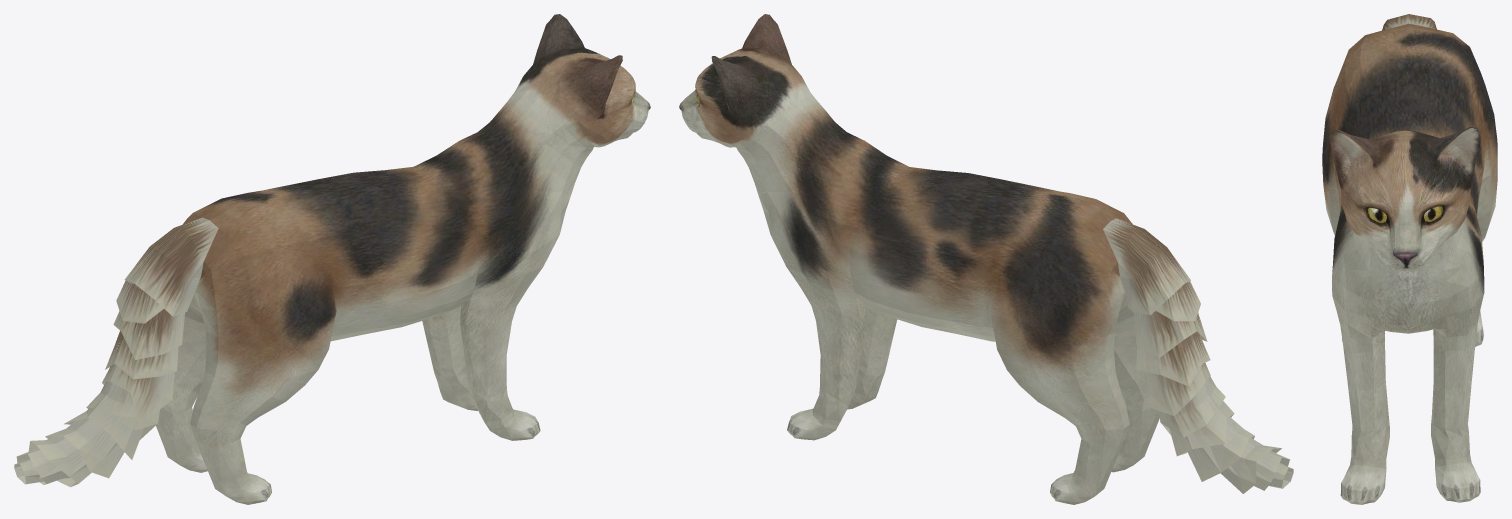
The model's file is kocka_seda.glb.
The picture shows the model from 3 angles, left to right: view 1: azimuth 30°, elevation 25°; view 2: azimuth 150°, elevation 25°; view 3: azimuth 270°, elevation 25°; orthographic projection. The views are drawn at different scales.
Parts seen in each view (by area): view 1: Object_66D0F3B7.jpg_mat_1-66D0F3B7.jpg_0, Object_49EEE8A5.jpg_mat_2-49EEE8A5.jpg_0, Object_CFB4CB77.jpg_mat_0-CFB4CB77.jpg_0; view 2: Object_66D0F3B7.jpg_mat_1-66D0F3B7.jpg_0, Object_49EEE8A5.jpg_mat_2-49EEE8A5.jpg_0, Object_CFB4CB77.jpg_mat_0-CFB4CB77.jpg_0; view 3: Object_66D0F3B7.jpg_mat_1-66D0F3B7.jpg_0, Object_CFB4CB77.jpg_mat_0-CFB4CB77.jpg_0, Object_49EEE8A5.jpg_mat_2-49EEE8A5.jpg_0.
Part boxes in pixels (bbox=[...]): Object_66D0F3B7.jpg_mat_1-66D0F3B7.jpg_0: bbox=[69, 91, 634, 504]; Object_49EEE8A5.jpg_mat_2-49EEE8A5.jpg_0: bbox=[14, 217, 218, 487]; Object_CFB4CB77.jpg_mat_0-CFB4CB77.jpg_0: bbox=[515, 14, 650, 150]; Object_66D0F3B7.jpg_mat_1-66D0F3B7.jpg_0: bbox=[696, 92, 1159, 504]; Object_49EEE8A5.jpg_mat_2-49EEE8A5.jpg_0: bbox=[1103, 218, 1293, 493]; Object_CFB4CB77.jpg_mat_0-CFB4CB77.jpg_0: bbox=[679, 14, 809, 150]; Object_66D0F3B7.jpg_mat_1-66D0F3B7.jpg_0: bbox=[1322, 23, 1497, 504]; Object_CFB4CB77.jpg_mat_0-CFB4CB77.jpg_0: bbox=[1329, 127, 1479, 272]; Object_49EEE8A5.jpg_mat_2-49EEE8A5.jpg_0: bbox=[1382, 14, 1436, 30].
Size of the model in its own units: 0.5376 by 0.3 by 0.114.
3 materials, 3 textured.
